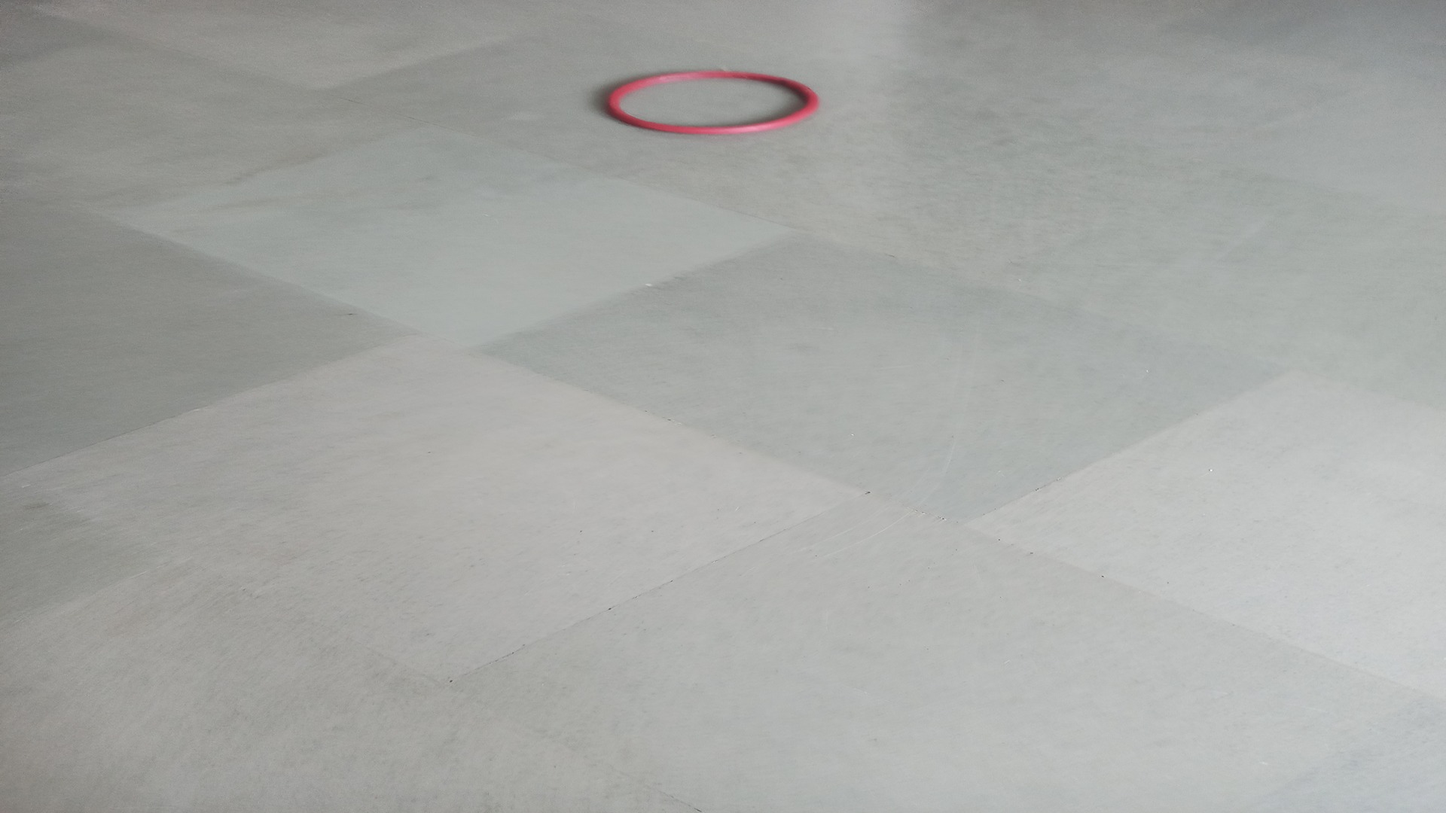Red ring: (605, 68, 820, 133)
